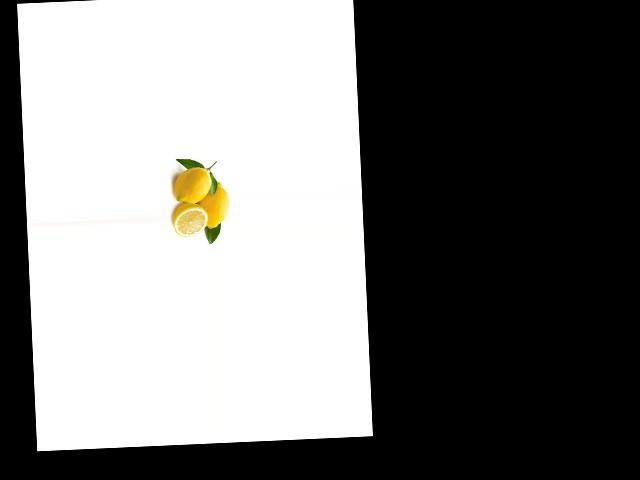lemon: (194, 179, 232, 227)
